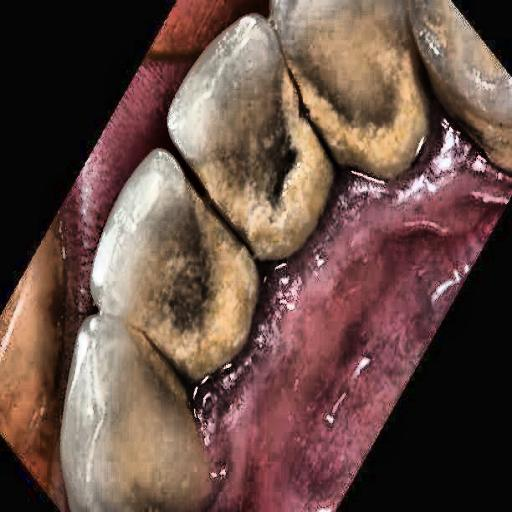Calculus: (146, 38, 512, 267), (141, 257, 275, 427)
